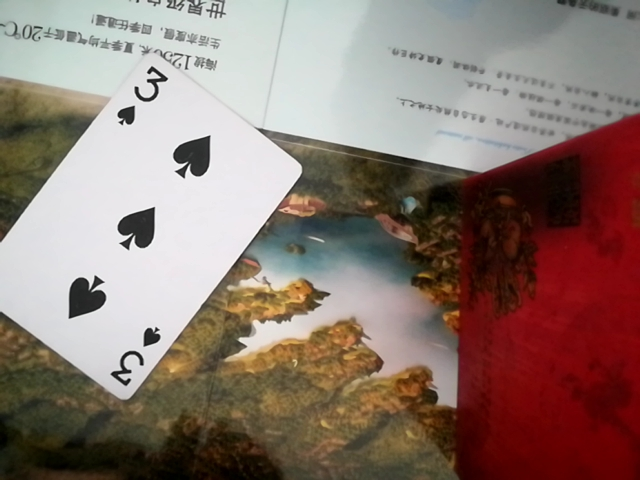ht 3: (1, 49, 310, 406)
